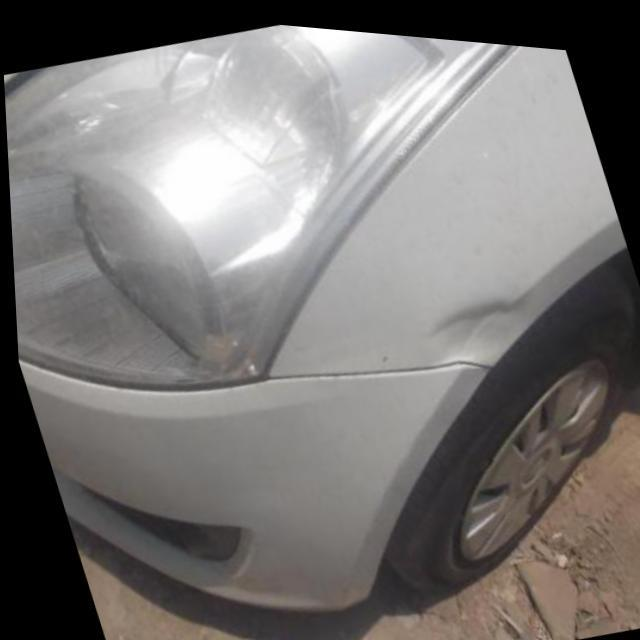dent: (421, 287, 517, 357)
